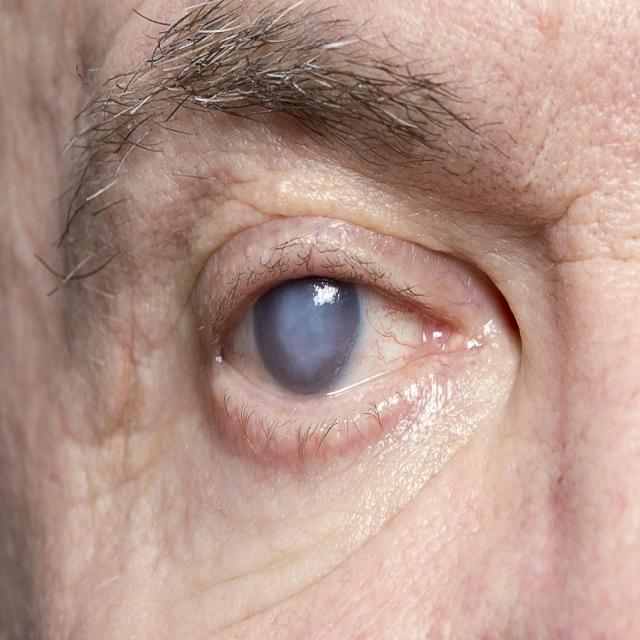Cataract: (215, 240, 382, 422)
